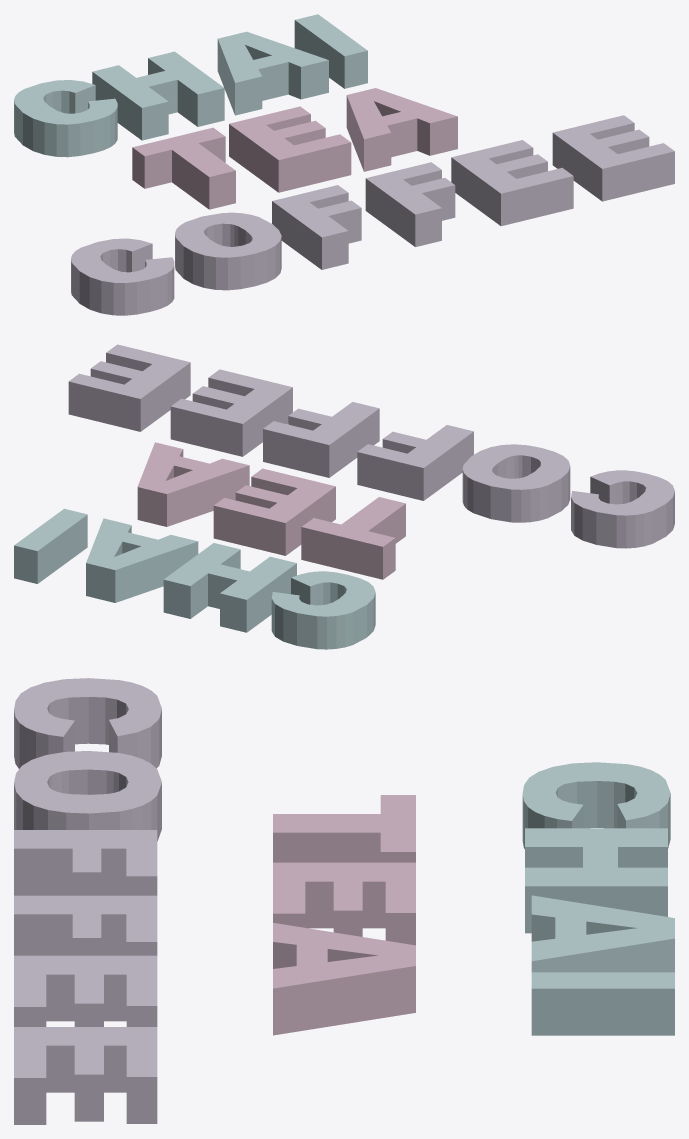
File: sign.glb
The picture shows the model from 3 angles, top to bottom: view 1: azimuth 30°, elevation 25°; view 2: azimuth 150°, elevation 25°; view 3: azimuth 270°, elevation 25°; orthographic projection. The views are drawn at different scales.
Parts seen in each view (by area): view 1: Mesh_Mesh_head_geo.001_lambert2SG.001; view 2: Mesh_Mesh_head_geo.001_lambert2SG.001; view 3: Mesh_Mesh_head_geo.001_lambert2SG.001.
Boxes of the visible parts, x1=… form: Mesh_Mesh_head_geo.001_lambert2SG.001: x1=14, y1=14, x2=674, y2=315; Mesh_Mesh_head_geo.001_lambert2SG.001: x1=14, y1=344, x2=674, y2=649; Mesh_Mesh_head_geo.001_lambert2SG.001: x1=14, y1=678, x2=674, y2=1124.
Bounding box in the file's own units: 0.0731 × 0.004 × 0.0511.
